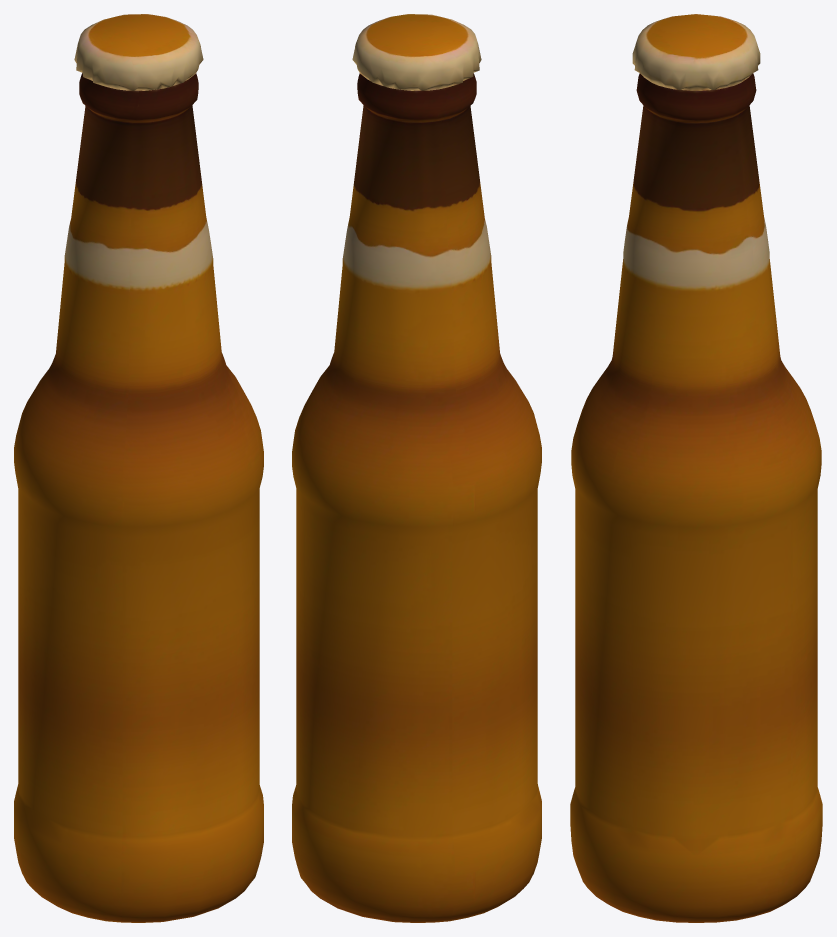
The model's file is BeerBottle1.glb.
The picture shows the model from 3 angles, left to right: view 1: azimuth 30°, elevation 25°; view 2: azimuth 150°, elevation 25°; view 3: azimuth 270°, elevation 25°; orthographic projection.
Parts seen in each view (by area): view 1: BeerBottle1; view 2: BeerBottle1; view 3: BeerBottle1.
Part boxes in pixels (x1,y1,x2,y2): BeerBottle1: [14, 14, 263, 922]; BeerBottle1: [292, 14, 541, 922]; BeerBottle1: [570, 14, 822, 922].
Bounding box in the file's own units: 0.5097 × 1.9 × 0.5135.
Materials: 1 (1 with a texture image).
